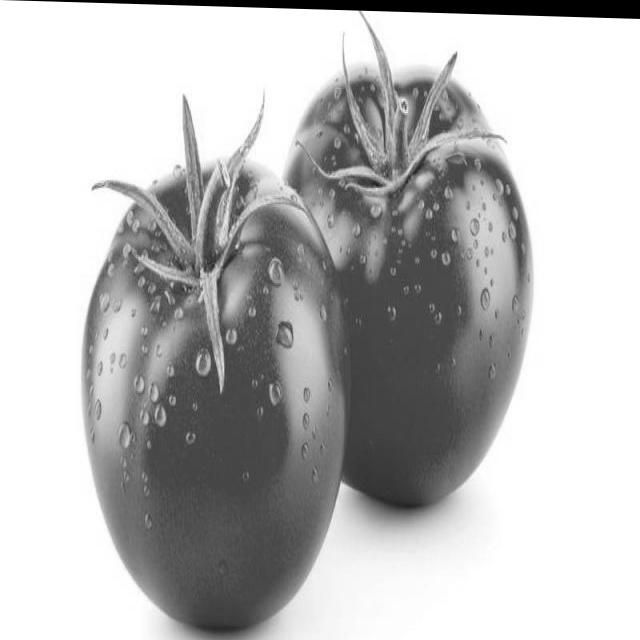kirmizi: (62, 53, 534, 640)
